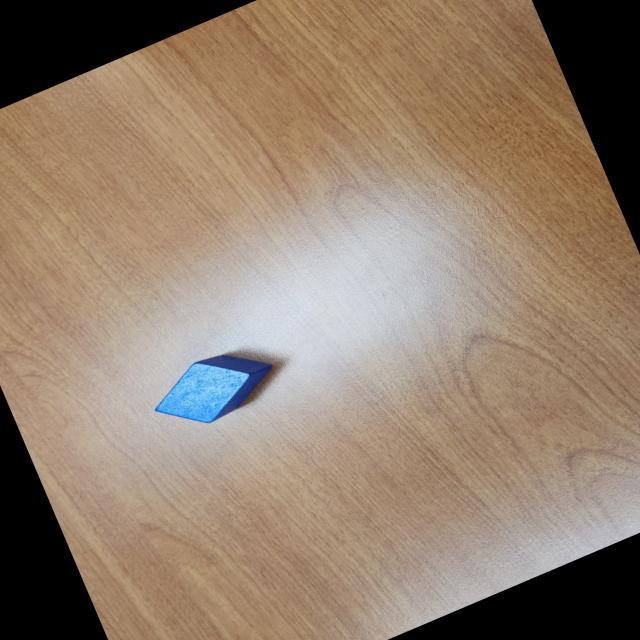blue: (142, 334, 286, 441)
